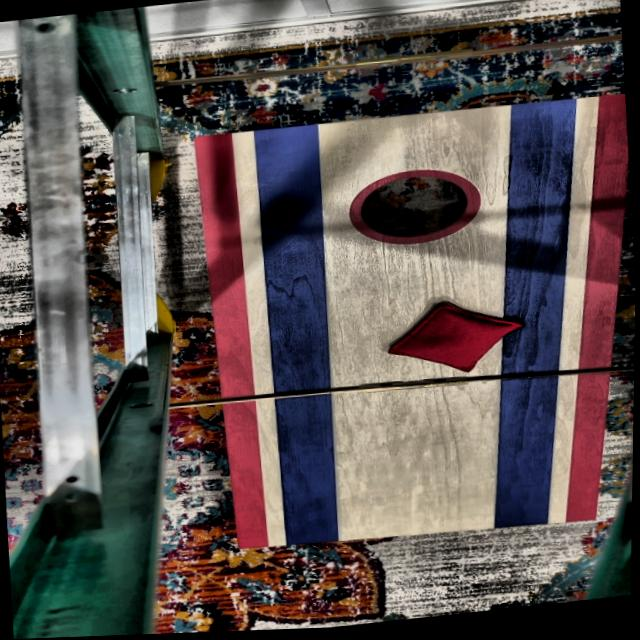board: (209, 102, 600, 552)
hole: (345, 166, 486, 253)
red-bean-bag: (382, 299, 526, 383)
